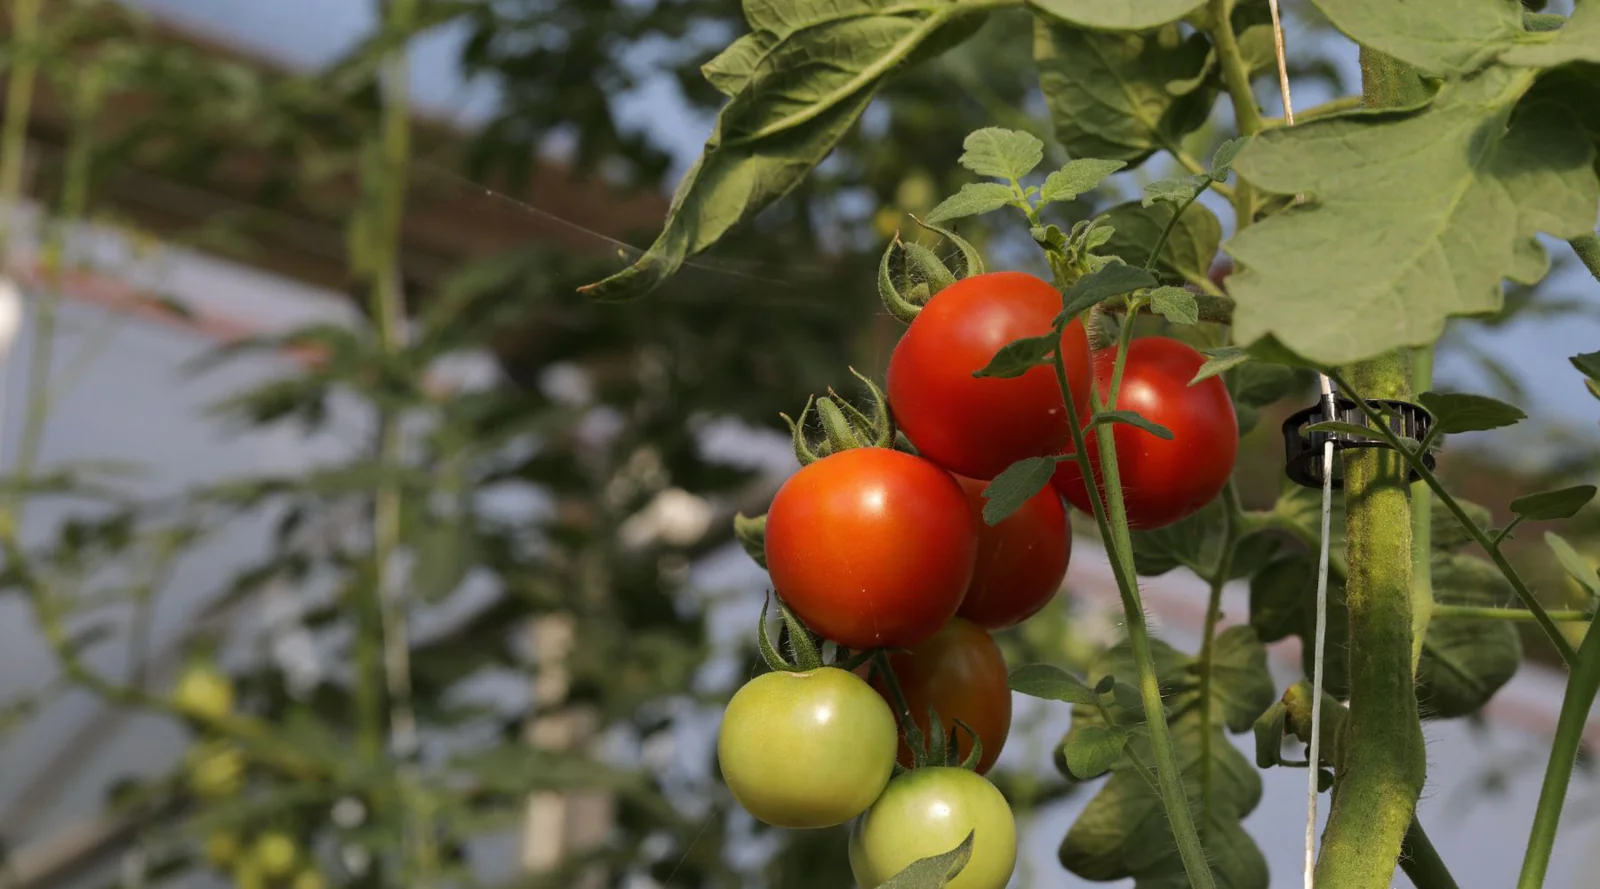tomato: (715, 423, 1153, 681)
